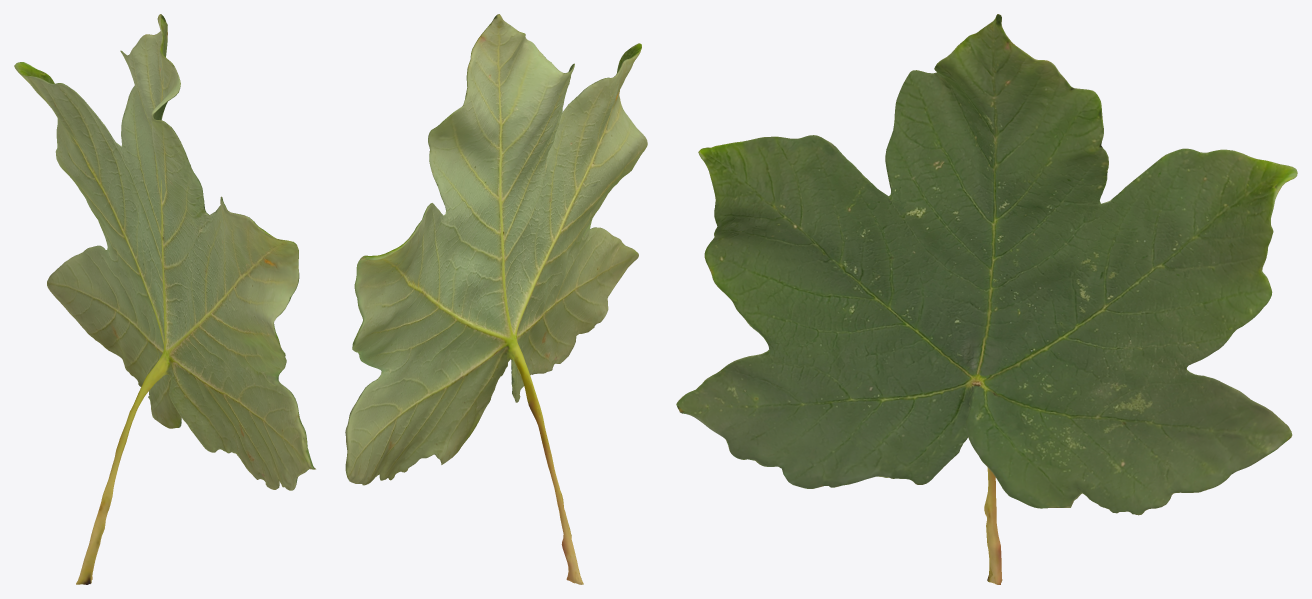
The model's file is leaf.glb.
The picture shows the model from 3 angles, left to right: view 1: azimuth 30°, elevation 25°; view 2: azimuth 150°, elevation 25°; view 3: azimuth 270°, elevation 25°; orthographic projection. The views are drawn at different scales.
Visible parts, largest first — view 1: leaf.001; view 2: leaf.001; view 3: leaf.001.
Boxes of the visible parts, x1,y1,x2,y2 form: leaf.001: (14, 14, 315, 584); leaf.001: (345, 14, 647, 584); leaf.001: (676, 14, 1297, 584).
Size of the model in its own units: 3.89 by 15.6 by 14.41.
1 material, 1 textured.
